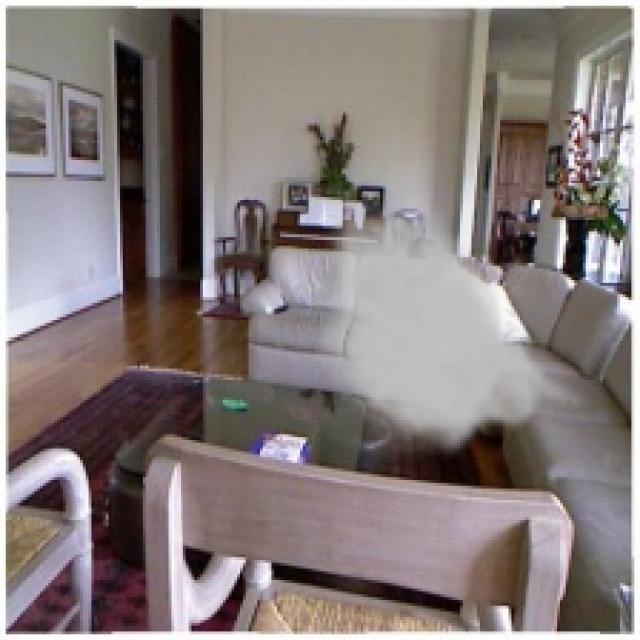smoke: (314, 188, 592, 463)
